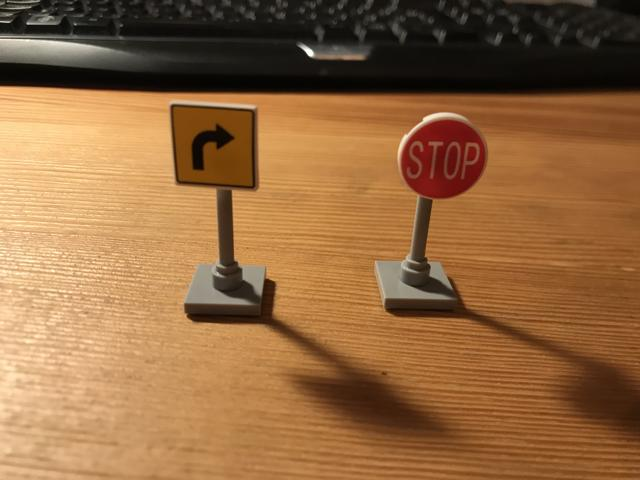fahrtrichtung rechts: (168, 101, 258, 191)
stop: (398, 115, 490, 202)
